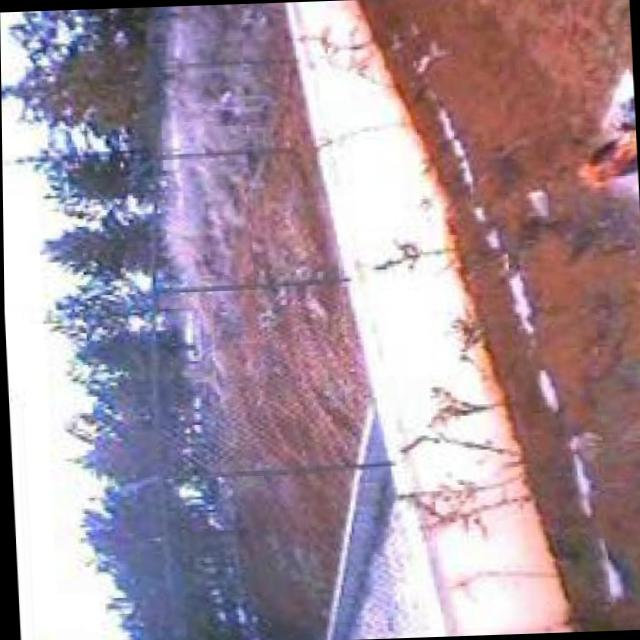Fire: (566, 100, 638, 196)
